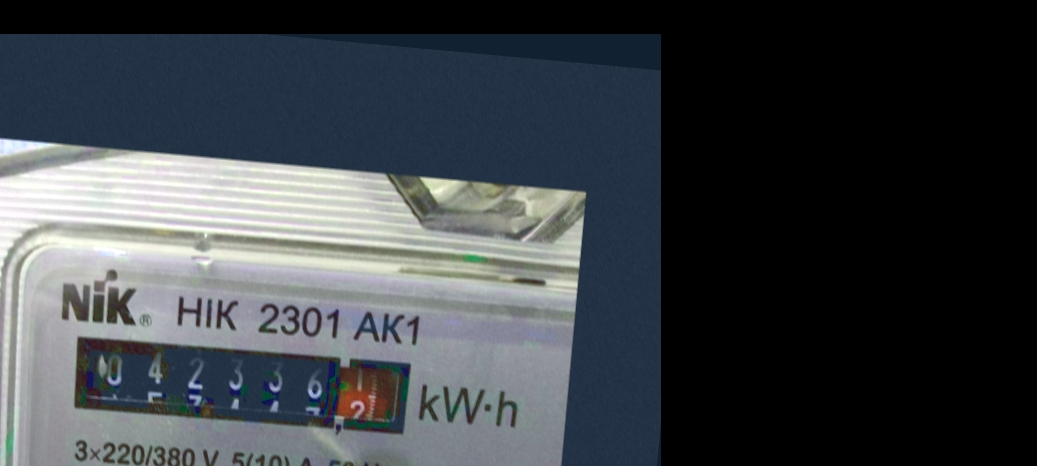0: (102, 351, 125, 387)
1: (350, 364, 366, 394)
2: (183, 354, 206, 392), (345, 398, 366, 421)
3: (262, 357, 285, 395), (224, 354, 246, 393)
4: (143, 348, 165, 386)
6: (300, 364, 325, 401)
screen: (61, 322, 420, 447)
